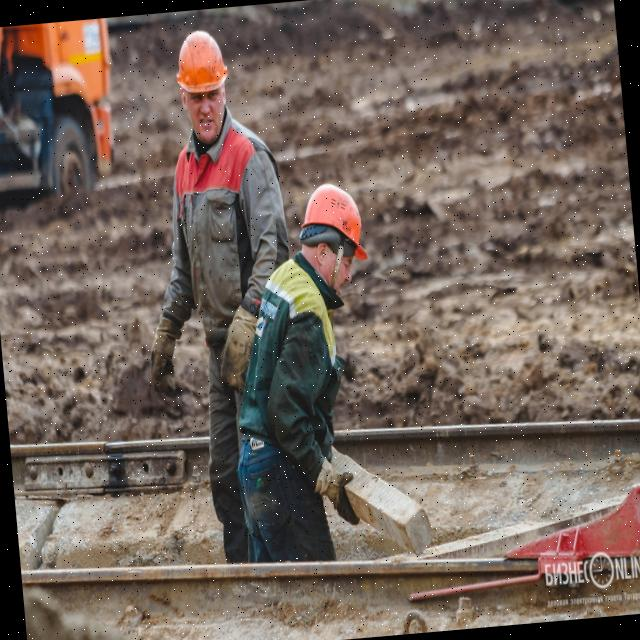Helmet: (297, 181, 370, 271), (172, 30, 232, 103)
NoJacket: (175, 103, 274, 337), (239, 264, 348, 443)
